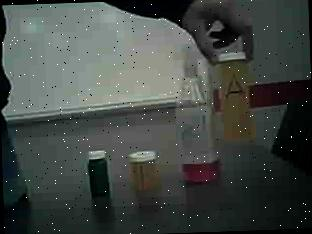Bottle A: (215, 41, 259, 151)
Bottle B: (124, 148, 164, 196)
Bottle C: (85, 148, 116, 203)
hazard: (170, 32, 222, 190)
